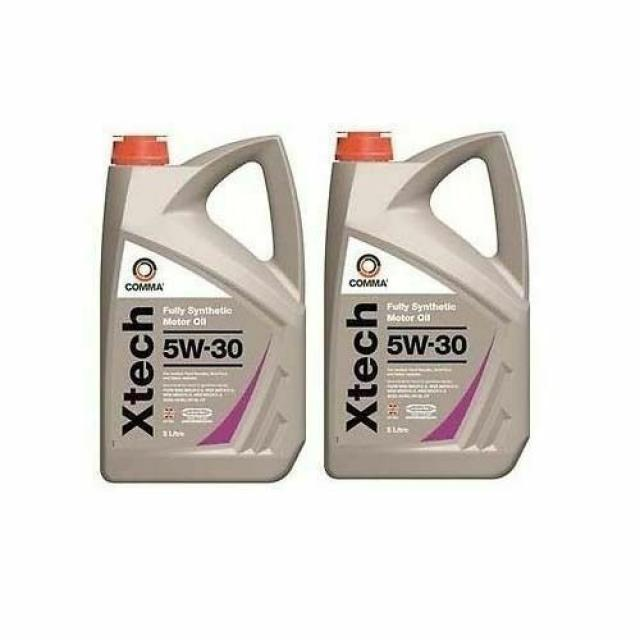motor_oil: (323, 121, 539, 485), (95, 125, 311, 488)
